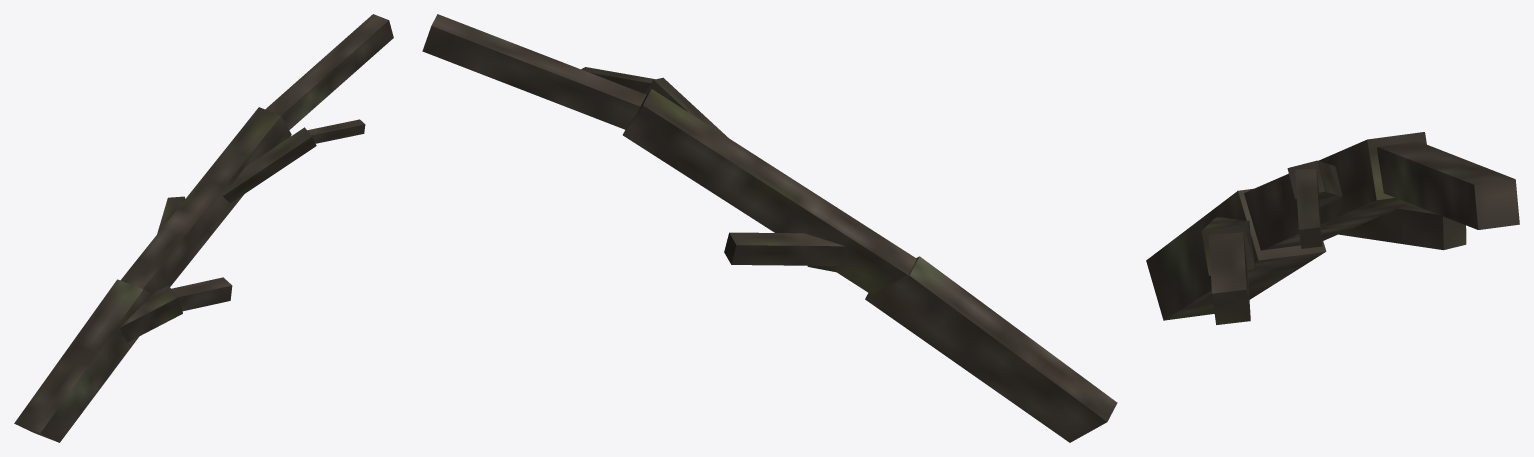
File: spruce_twig_branch_up_5.obj
3 views of the same model, side by side, from view 1: azimuth 30°, elevation 25°; view 2: azimuth 150°, elevation 25°; view 3: azimuth 270°, elevation 25° (orthographic). The views are drawn at different scales.
Visible parts, largest first — view 1: cube; view 2: cube; view 3: cube.
Boxes of the visible parts, bbox=[...] form: cube: bbox=[14, 14, 393, 442]; cube: bbox=[422, 14, 1117, 442]; cube: bbox=[1146, 132, 1519, 324].
Bounding box in the file's own units: 2.34 × 1.34 × 0.8492.
